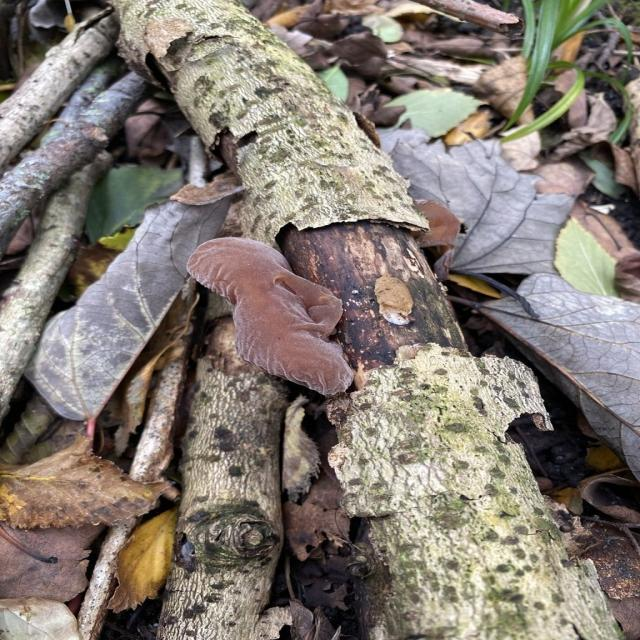Matang: (188, 233, 379, 420)
